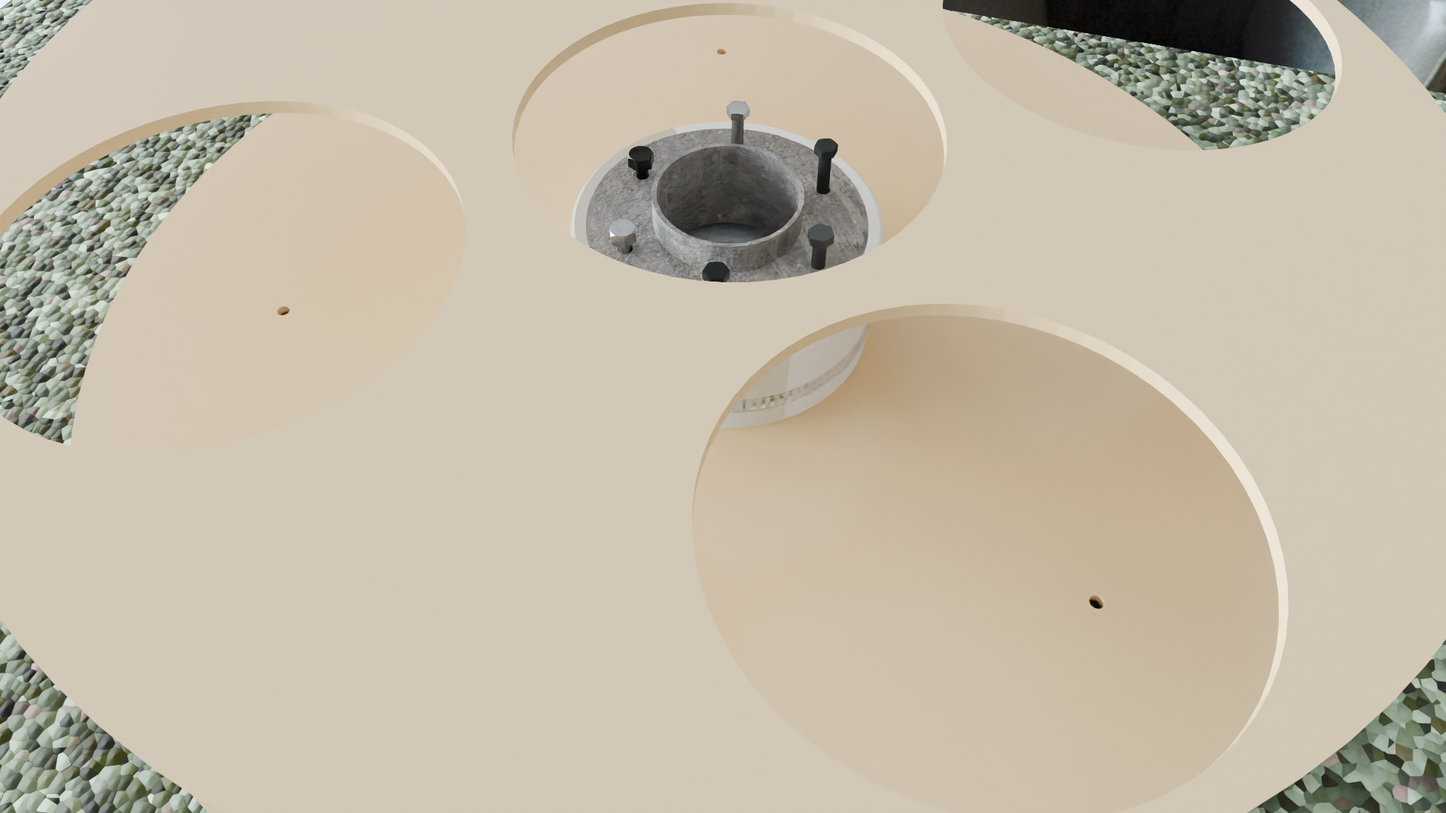bolt: (609, 219, 636, 240), (627, 146, 654, 164), (703, 262, 730, 280), (808, 224, 834, 242), (814, 139, 838, 153), (727, 101, 750, 114)
